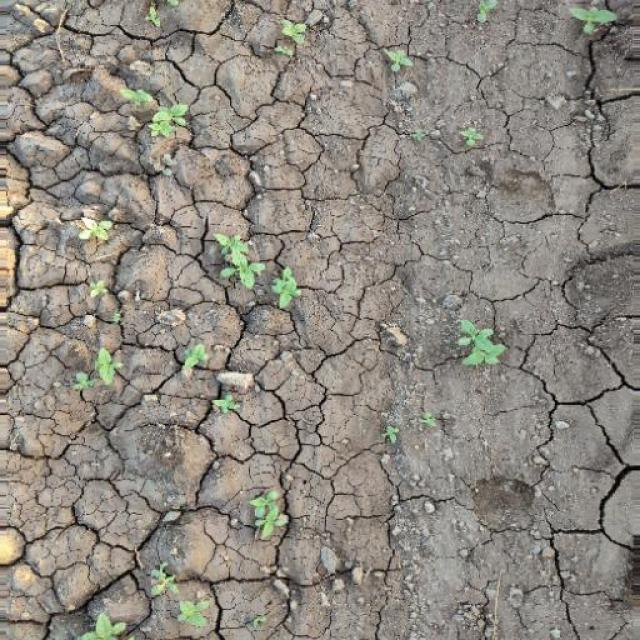crop: (99, 84, 206, 175), (208, 226, 302, 309), (454, 305, 508, 381), (65, 338, 126, 402), (241, 482, 295, 546), (68, 202, 122, 254), (205, 388, 247, 422)
